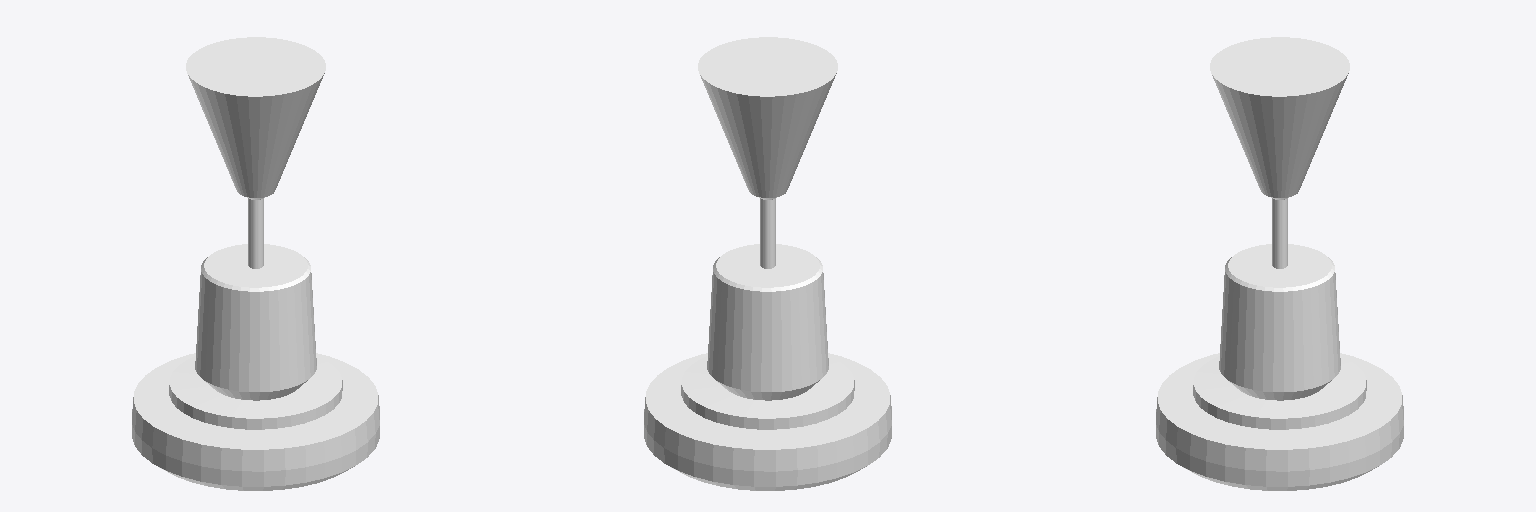
The picture shows the model from 3 angles: view 1: azimuth 30°, elevation 25°; view 2: azimuth 150°, elevation 25°; view 3: azimuth 270°, elevation 25°; orthographic projection.
Parts seen in each view (by area): view 1: polySurface4; view 2: polySurface4; view 3: polySurface4.
Boxes of the visible parts, x1=… form: polySurface4: x1=132, y1=37, x2=379, y2=490; polySurface4: x1=644, y1=37, x2=891, y2=490; polySurface4: x1=1156, y1=37, x2=1403, y2=490.
Size of the model in its own units: 0.4575 by 0.7674 by 0.4575.
Materials: 1 (1 with a texture image).